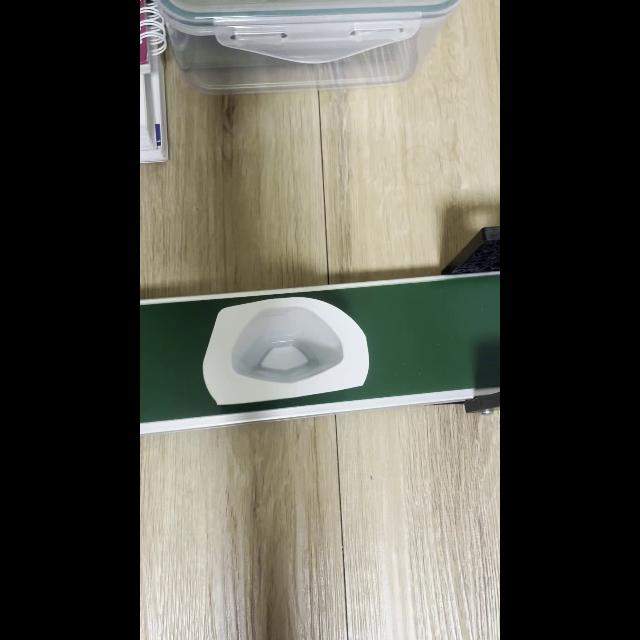clean: (208, 302, 356, 394)
